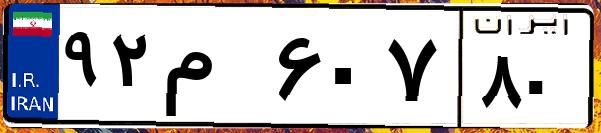0: (330, 28, 385, 110), (525, 38, 570, 115)
2: (110, 28, 158, 98)
6: (270, 28, 330, 110)
7: (385, 28, 445, 110)
8: (475, 38, 525, 113)
9: (57, 26, 110, 100)
م: (158, 20, 270, 120)
